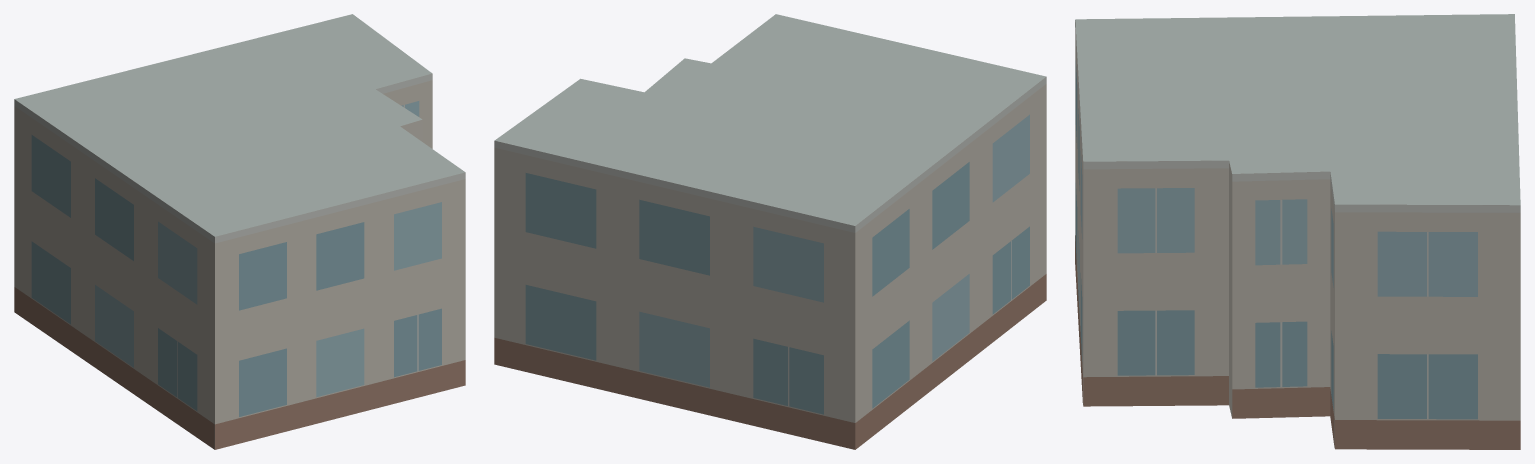
File: survey-upis-32609113.glb
3 views of the same model, side by side, from view 1: azimuth 30°, elevation 25°; view 2: azimuth 150°, elevation 25°; view 3: azimuth 270°, elevation 25° (orthographic). The views are drawn at different scales.
Visible parts, largest first — view 1: survey-upis-32609113.tmp; view 2: survey-upis-32609113.tmp; view 3: survey-upis-32609113.tmp.
Part boxes in pixels (<box>): survey-upis-32609113.tmp: <box>14,14,465,449</box>; survey-upis-32609113.tmp: <box>494,14,1046,449</box>; survey-upis-32609113.tmp: <box>1075,14,1520,449</box>.
Size of the model in its own units: 13.08 by 7.8 by 12.88.
